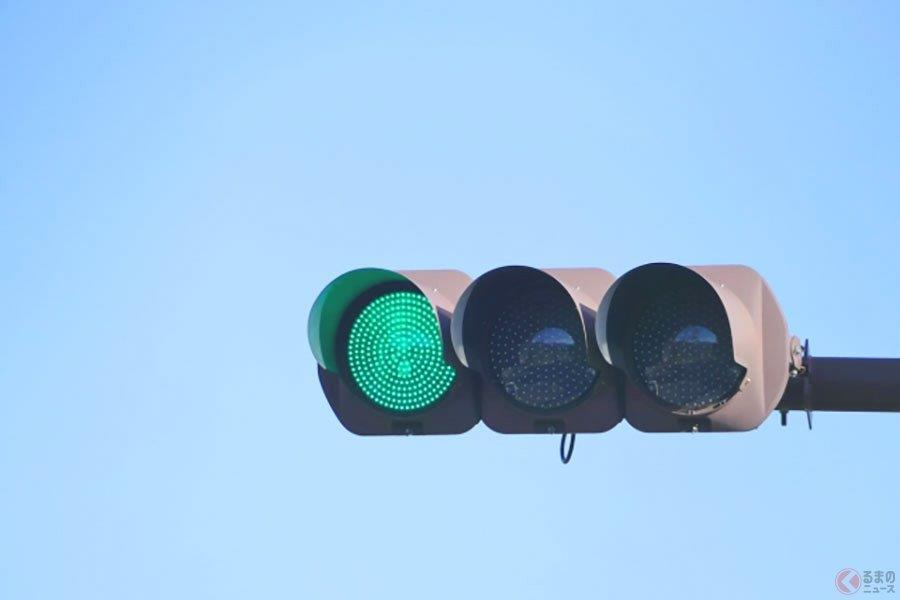cars: (311, 267, 776, 434)
